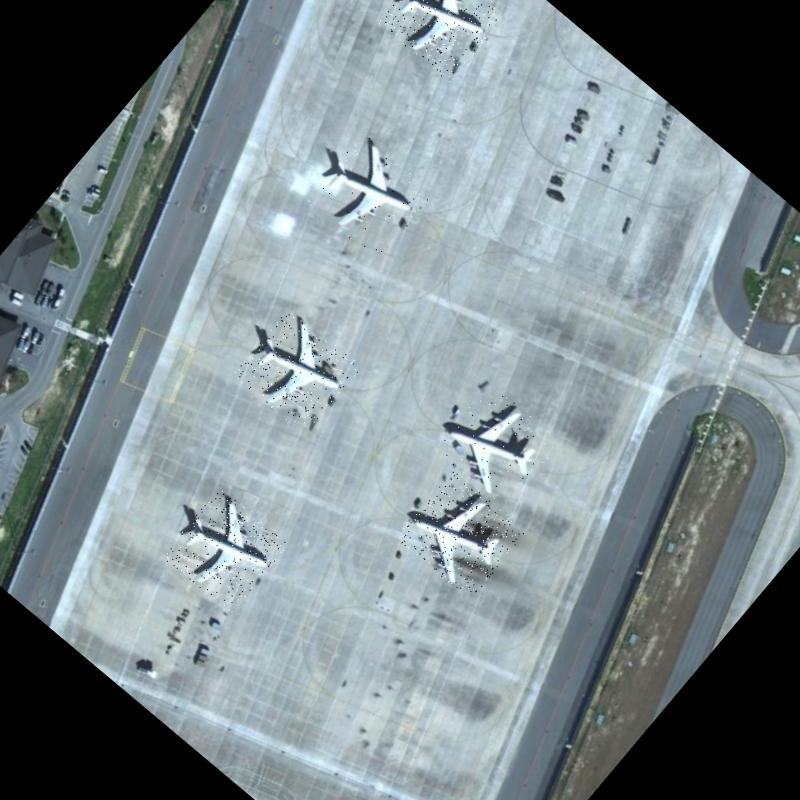A11: (300, 128, 436, 262), (394, 469, 526, 600), (232, 306, 362, 435), (160, 486, 288, 615), (432, 382, 560, 508), (376, 0, 506, 82)
